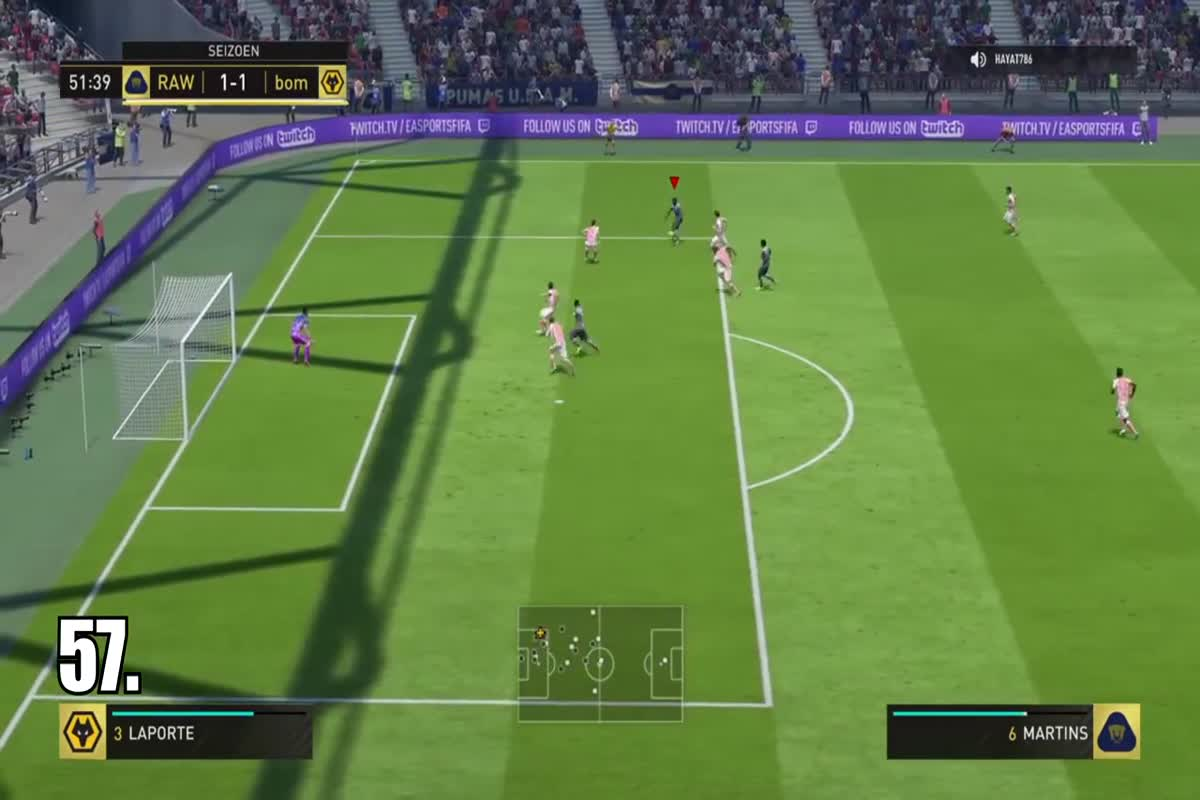ball: (659, 226, 678, 243)
